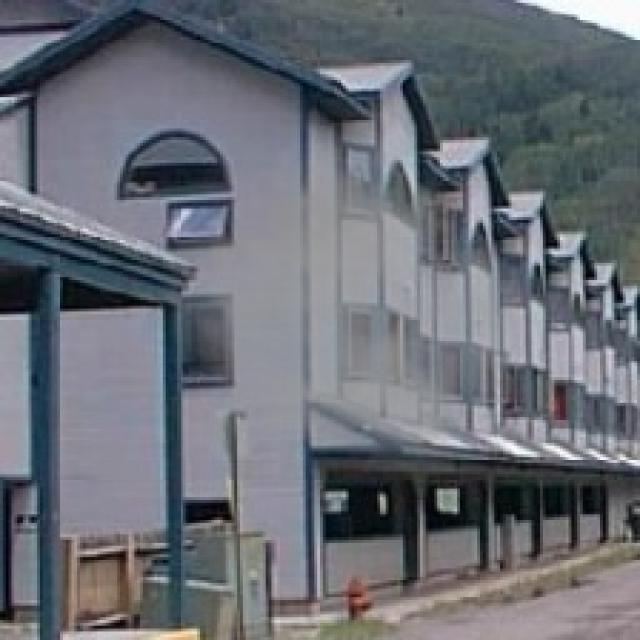smoke: (146, 103, 548, 471)
